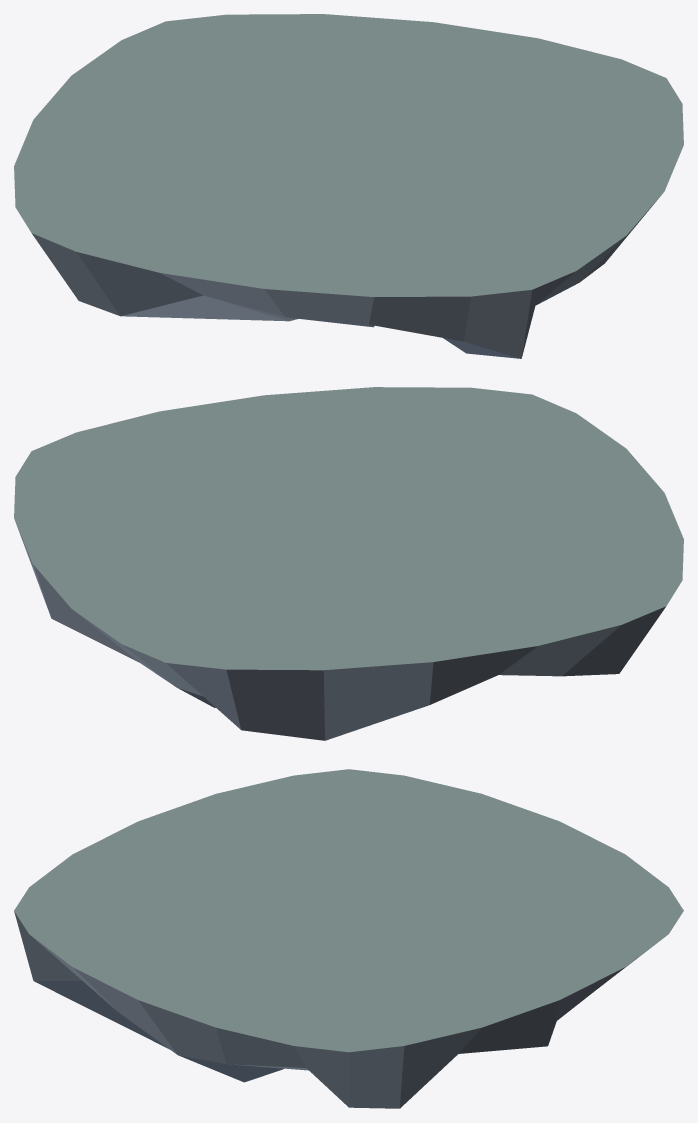
Rendered from Island_Frag_11.glb.
3 renders of one model, top to bottom at view 1: azimuth 30°, elevation 25°; view 2: azimuth 150°, elevation 25°; view 3: azimuth 270°, elevation 25°, orthographic. The views are drawn at different scales.
Parts seen in each view (by area): view 1: Island_Frag_11; view 2: Island_Frag_11; view 3: Island_Frag_11.
Boxes of the visible parts, x1,y1,x2,y2 form: Island_Frag_11: [14, 14, 683, 358]; Island_Frag_11: [14, 387, 683, 740]; Island_Frag_11: [14, 769, 683, 1108].
Bounding box in the file's own units: 92 × 18.91 × 92.
